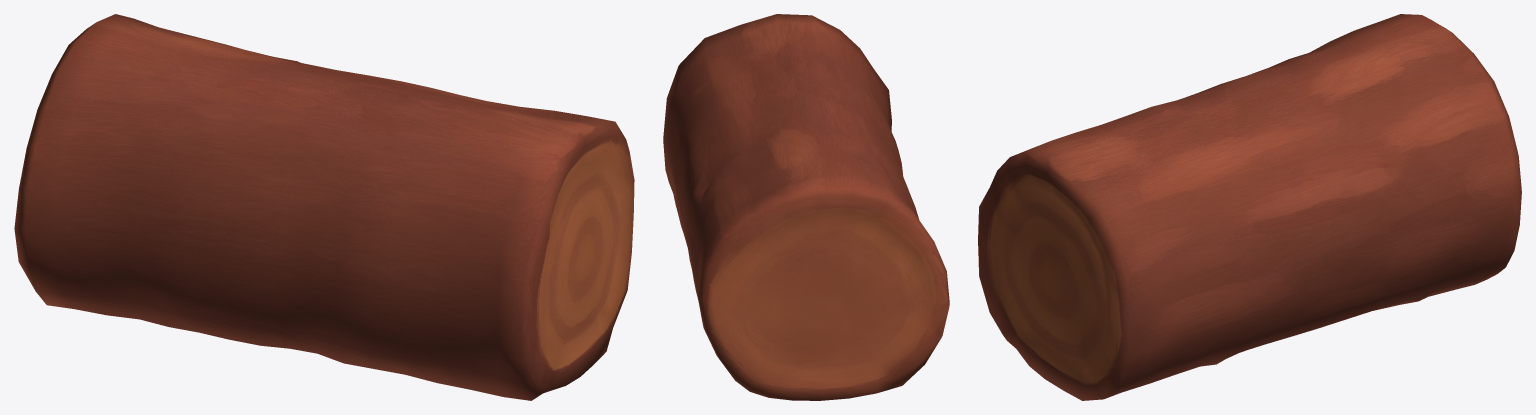
The model's file is sit_log.glb.
3 renders of one model, left to right at view 1: azimuth 30°, elevation 25°; view 2: azimuth 150°, elevation 25°; view 3: azimuth 270°, elevation 25°, orthographic. The views are drawn at different scales.
Visible parts, largest first — view 1: tripo_node_2309f801-416c-4aed-a40d-166d5af2dd9c; view 2: tripo_node_2309f801-416c-4aed-a40d-166d5af2dd9c; view 3: tripo_node_2309f801-416c-4aed-a40d-166d5af2dd9c.
Part boxes in pixels (x1,y1,x2,y2): tripo_node_2309f801-416c-4aed-a40d-166d5af2dd9c: (14, 14, 634, 400); tripo_node_2309f801-416c-4aed-a40d-166d5af2dd9c: (663, 14, 949, 400); tripo_node_2309f801-416c-4aed-a40d-166d5af2dd9c: (978, 14, 1521, 400).
Size of the model in its own units: 0.9238 by 0.4785 by 0.998.
Materials: 1 (1 with a texture image).
